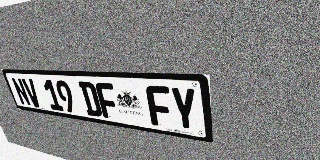1: (41, 79, 64, 111)
9: (54, 80, 78, 113)
D: (78, 81, 103, 117)
F: (145, 85, 174, 128), (94, 82, 120, 120)
N: (11, 78, 32, 106)
V: (21, 78, 43, 108)
Y: (169, 87, 199, 132)
